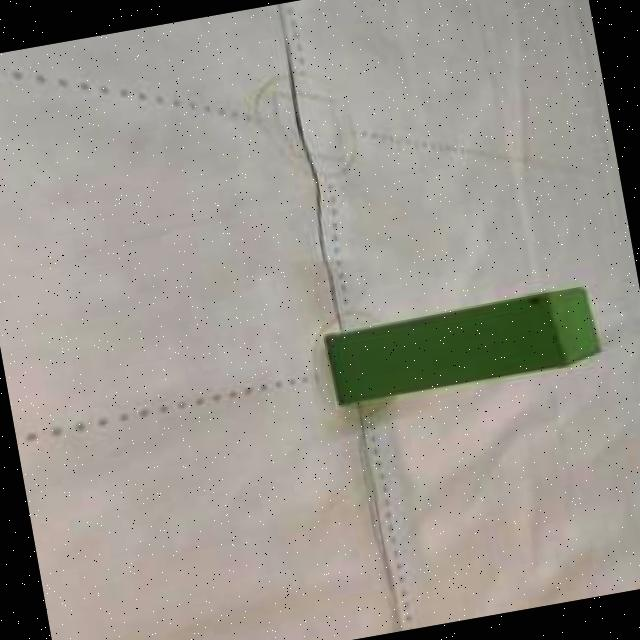greenbox: (320, 284, 600, 409)
